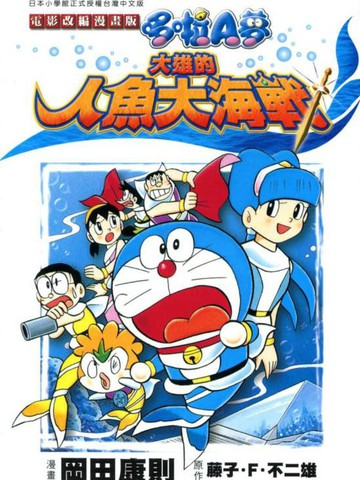Doraemon: (103, 214, 273, 409)
